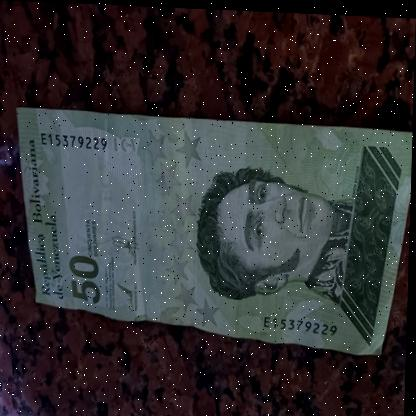fifty-front-vef: (10, 106, 414, 354)
